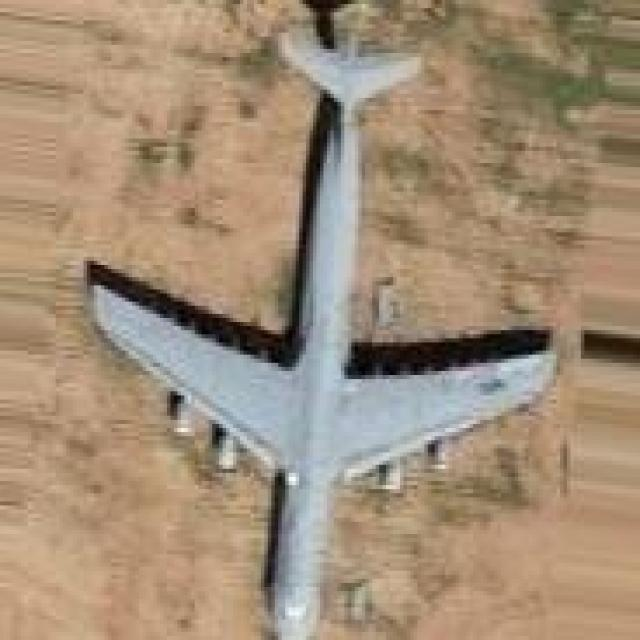C-5_TopDown: (83, 0, 560, 637)
